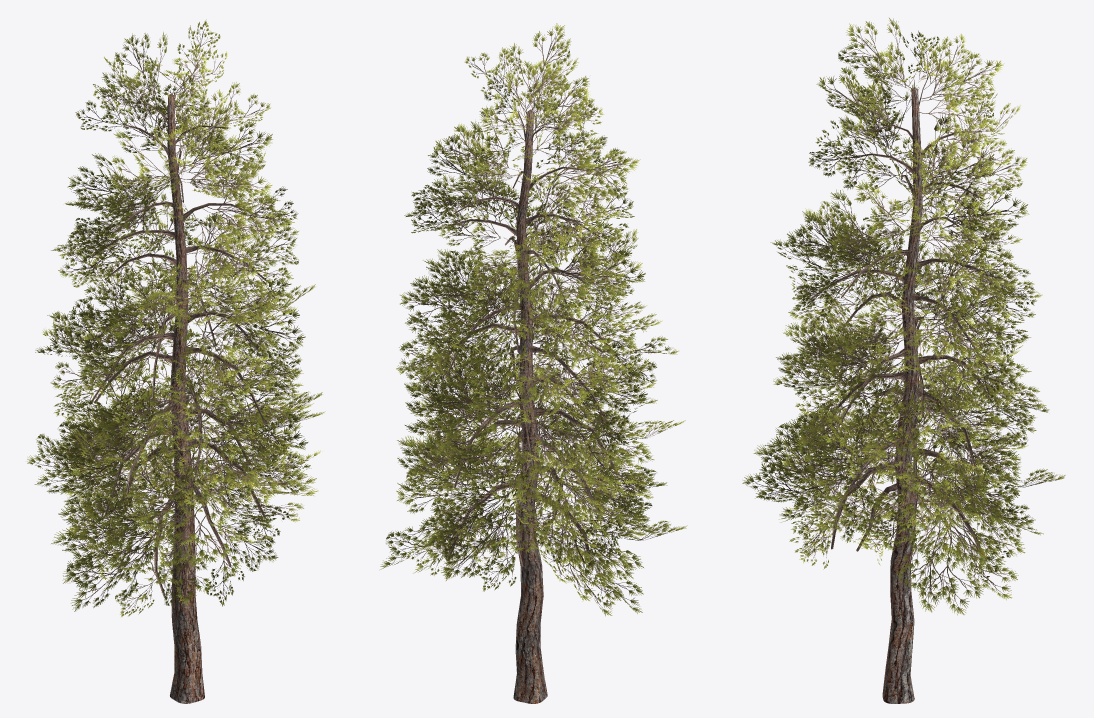
Rendered from Pine_2.fbx.
3 renders of one model, left to right at view 1: azimuth 30°, elevation 25°; view 2: azimuth 150°, elevation 25°; view 3: azimuth 270°, elevation 25°, orthographic.
Parts seen in each view (by area): view 1: Tree_1, Tree_0; view 2: Tree_1, Tree_0; view 3: Tree_1, Tree_0.
Part boxes in pixels (left/top/right/bottom): Tree_1: left=27, top=19, right=325, bottom=616; Tree_0: left=91, top=65, right=268, bottom=703; Tree_1: left=380, top=23, right=687, bottom=616; Tree_0: left=436, top=82, right=620, bottom=703; Tree_1: left=742, top=18, right=1065, bottom=615; Tree_0: left=810, top=72, right=992, bottom=703.
Size of the model in its own units: 165 by 362 by 171.
